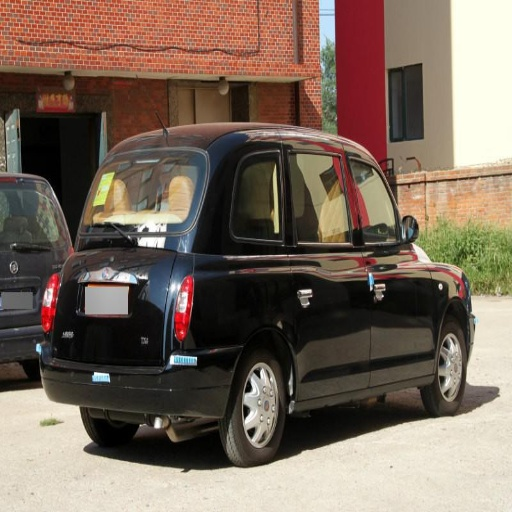back_bumper: (39, 339, 236, 423)
back_right_door: (229, 143, 366, 391)
tailgate: (84, 221, 174, 252)
trunk: (56, 246, 284, 367), (344, 271, 459, 363)
